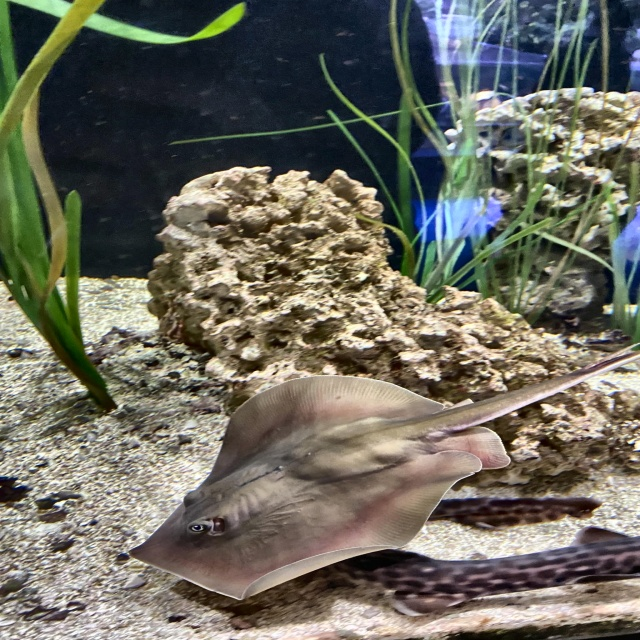shark: (305, 498, 639, 617)
stingray: (129, 376, 510, 600)
